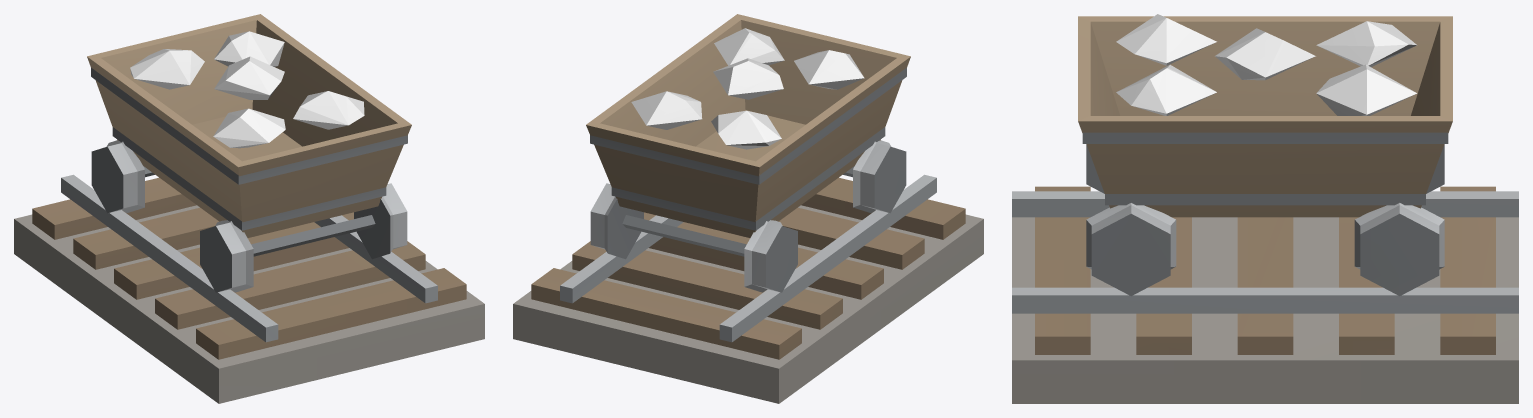
File: ore_cart_low.glb
3 views of the same model, side by side, from view 1: azimuth 30°, elevation 25°; view 2: azimuth 150°, elevation 25°; view 3: azimuth 270°, elevation 25° (orthographic). The views are drawn at different scales.
Parts seen in each view (by area): view 1: ore_cart, rail; view 2: ore_cart, rail; view 3: rail, ore_cart.
Boxes of the visible parts, <box> form: ore_cart: <box>87,14,411,292</box>; rail: <box>14,174,484,403</box>; ore_cart: <box>586,14,910,292</box>; rail: <box>513,174,983,403</box>; rail: <box>1012,186,1518,403</box>; ore_cart: <box>1078,14,1452,296</box>.
Size of the model in its own units: 1.5 by 1.27 by 2.
